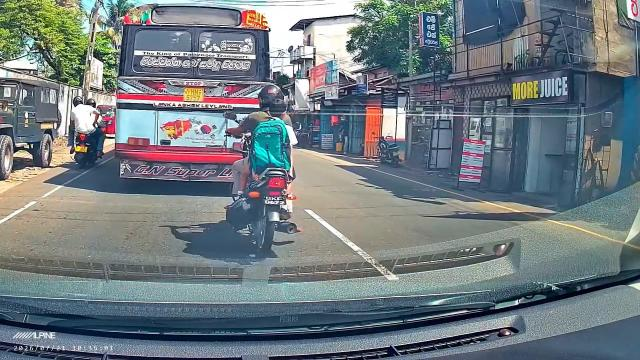illegal overtaking: (67, 97, 114, 169)
no helmet: (271, 102, 290, 118)
number plate: (260, 189, 293, 210), (71, 144, 90, 153)
